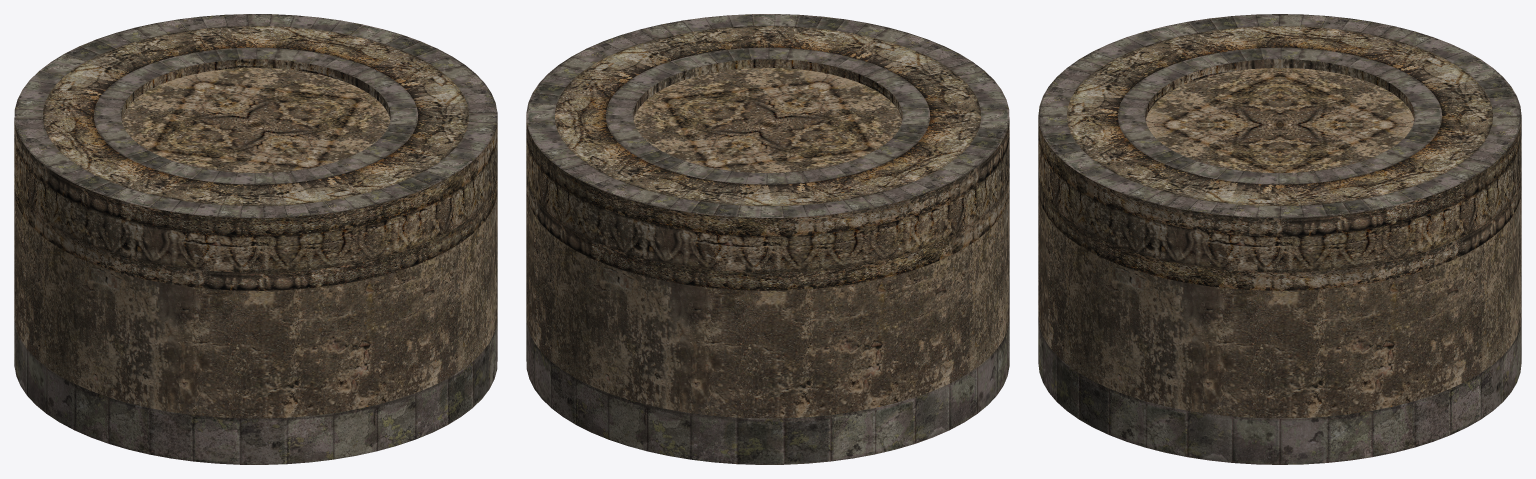
File: materials_5_pillar_fat_18.fbx
3 renders of one model, left to right at view 1: azimuth 30°, elevation 25°; view 2: azimuth 150°, elevation 25°; view 3: azimuth 270°, elevation 25°, orthographic.
Parts seen in each view (by area): view 1: materials_5_pillar_fat_18; view 2: materials_5_pillar_fat_18; view 3: materials_5_pillar_fat_18.
Boxes of the visible parts, box(x1,y1,x2,y2) form: materials_5_pillar_fat_18: box(14, 14, 497, 464); materials_5_pillar_fat_18: box(526, 14, 1009, 464); materials_5_pillar_fat_18: box(1038, 14, 1521, 464).
Size of the model in its own units: 135 by 75.86 by 135.
